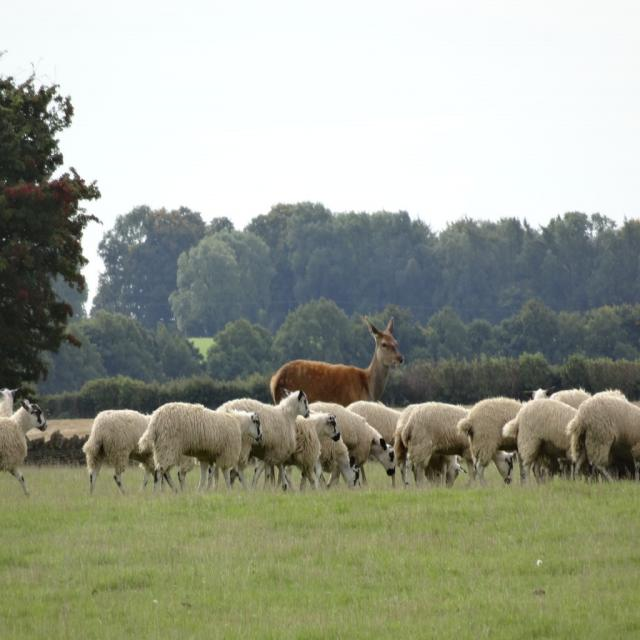Sheep: (0, 386, 640, 497)
